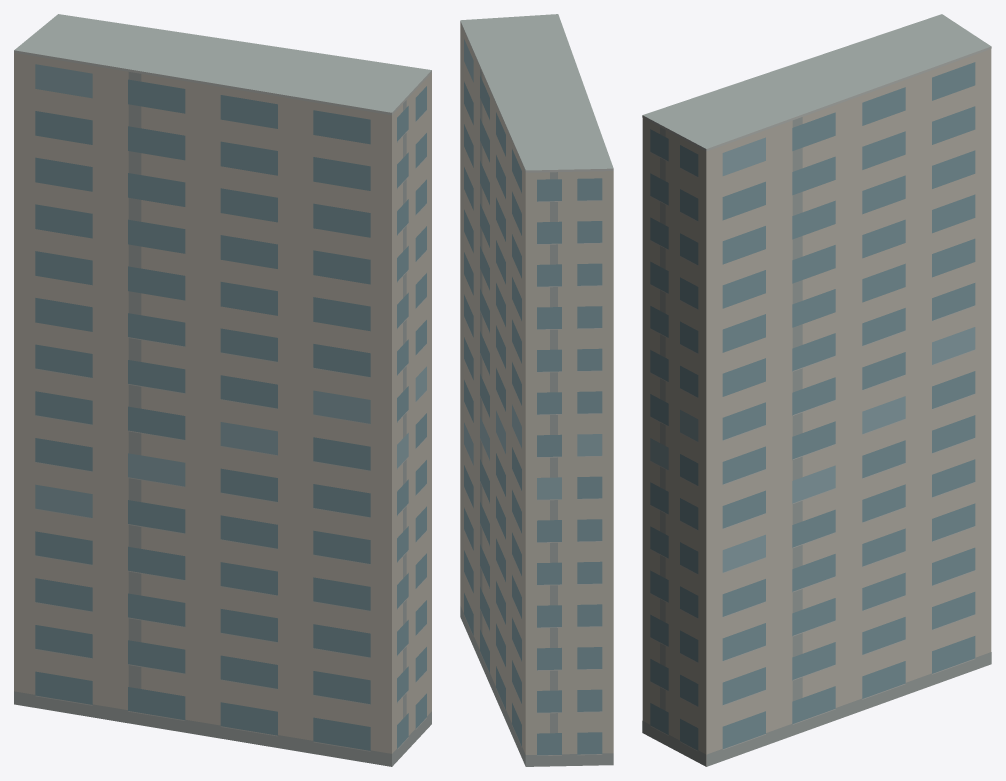
File: residential-48dde064-1921-4a22-aecd-d556bd52df43.glb
The picture shows the model from 3 angles, left to right: view 1: azimuth 30°, elevation 25°; view 2: azimuth 150°, elevation 25°; view 3: azimuth 270°, elevation 25°; orthographic projection. The views are drawn at different scales.
Parts seen in each view (by area): view 1: residential-48dde064-1921-4a22-aecd-d556bd52df43.tmp; view 2: residential-48dde064-1921-4a22-aecd-d556bd52df43.tmp; view 3: residential-48dde064-1921-4a22-aecd-d556bd52df43.tmp.
Boxes of the visible parts, x1,y1,x2,y2 form: residential-48dde064-1921-4a22-aecd-d556bd52df43.tmp: (14, 14, 431, 766); residential-48dde064-1921-4a22-aecd-d556bd52df43.tmp: (460, 14, 613, 766); residential-48dde064-1921-4a22-aecd-d556bd52df43.tmp: (642, 14, 991, 766).
Bounding box in the file's own units: 29.55 × 63 × 32.26.
